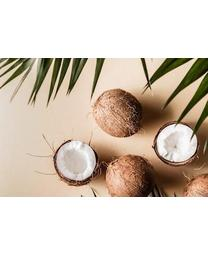coconut: (91, 89, 143, 139), (53, 139, 100, 187), (153, 120, 199, 168), (105, 155, 155, 197)
